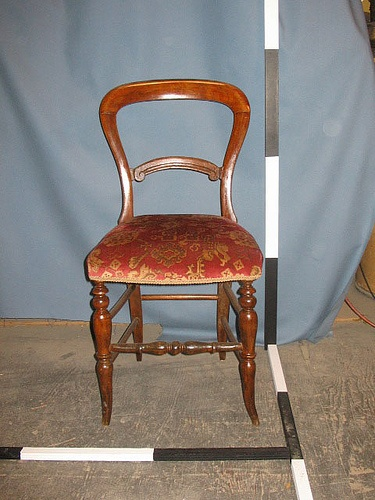obstacle: (86, 80, 262, 424)
